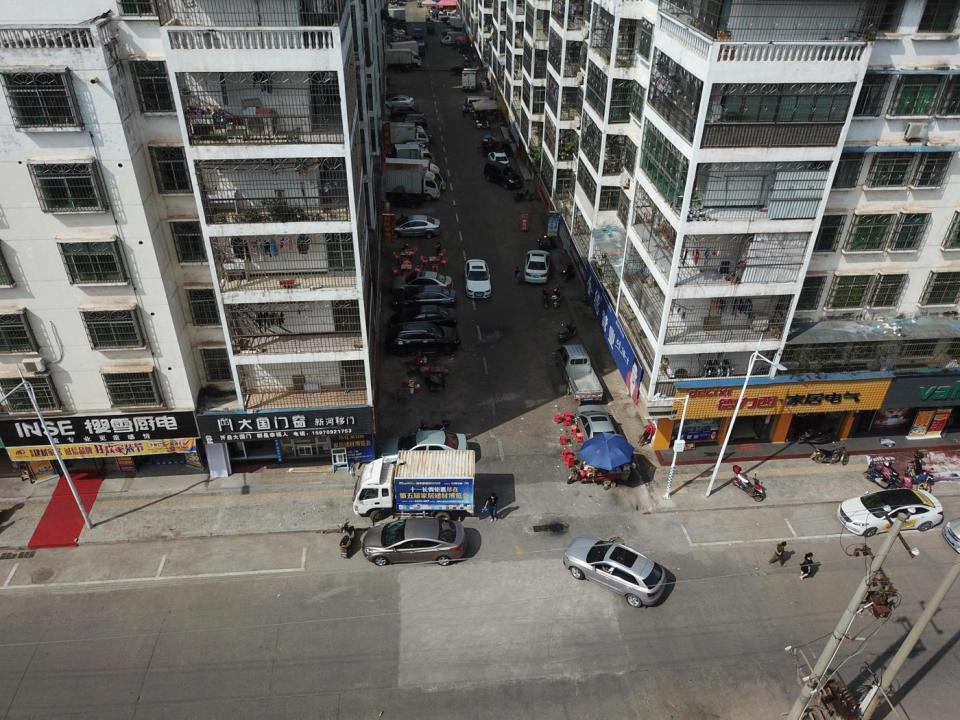car: (362, 516, 467, 566), (839, 488, 943, 537), (380, 429, 467, 462), (388, 322, 461, 353), (577, 404, 618, 454), (393, 290, 455, 313), (391, 271, 452, 292), (392, 306, 456, 326), (464, 258, 492, 299), (484, 161, 523, 189), (391, 215, 441, 236), (524, 249, 548, 284), (395, 114, 426, 128), (384, 94, 414, 108), (488, 151, 510, 170), (396, 140, 428, 153), (413, 28, 423, 39)
truck: (353, 452, 475, 518), (554, 344, 603, 403), (383, 164, 441, 201), (384, 158, 447, 190), (392, 144, 435, 168), (387, 122, 428, 144), (384, 48, 422, 69), (390, 41, 424, 54), (441, 32, 466, 47), (462, 68, 478, 89), (385, 8, 405, 23), (438, 12, 460, 22)
van: (392, 105, 420, 117), (466, 96, 490, 109)
